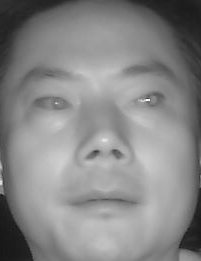eye: (126, 90, 171, 115), (31, 90, 74, 116)
mouth: (68, 178, 144, 220)
